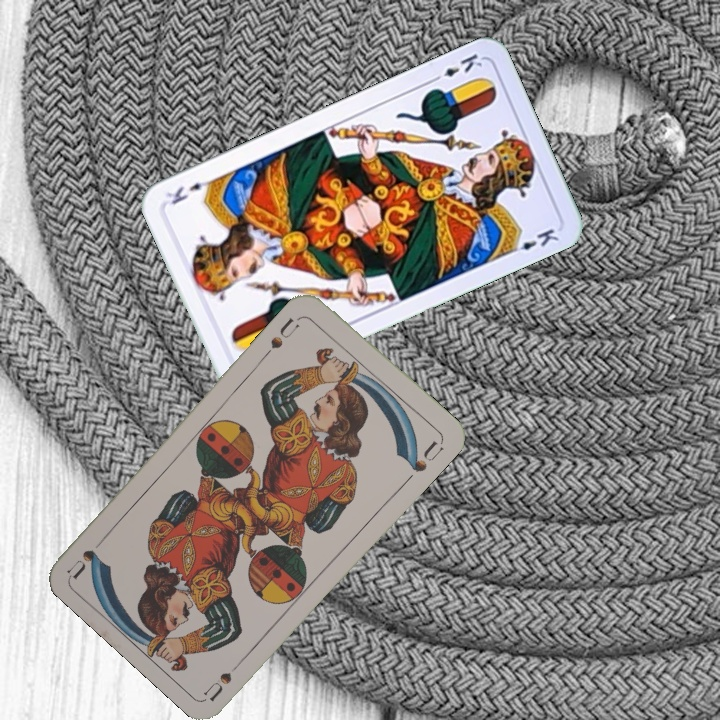EK: (427, 49, 485, 85)
SU: (201, 652, 249, 703), (266, 313, 302, 352)
